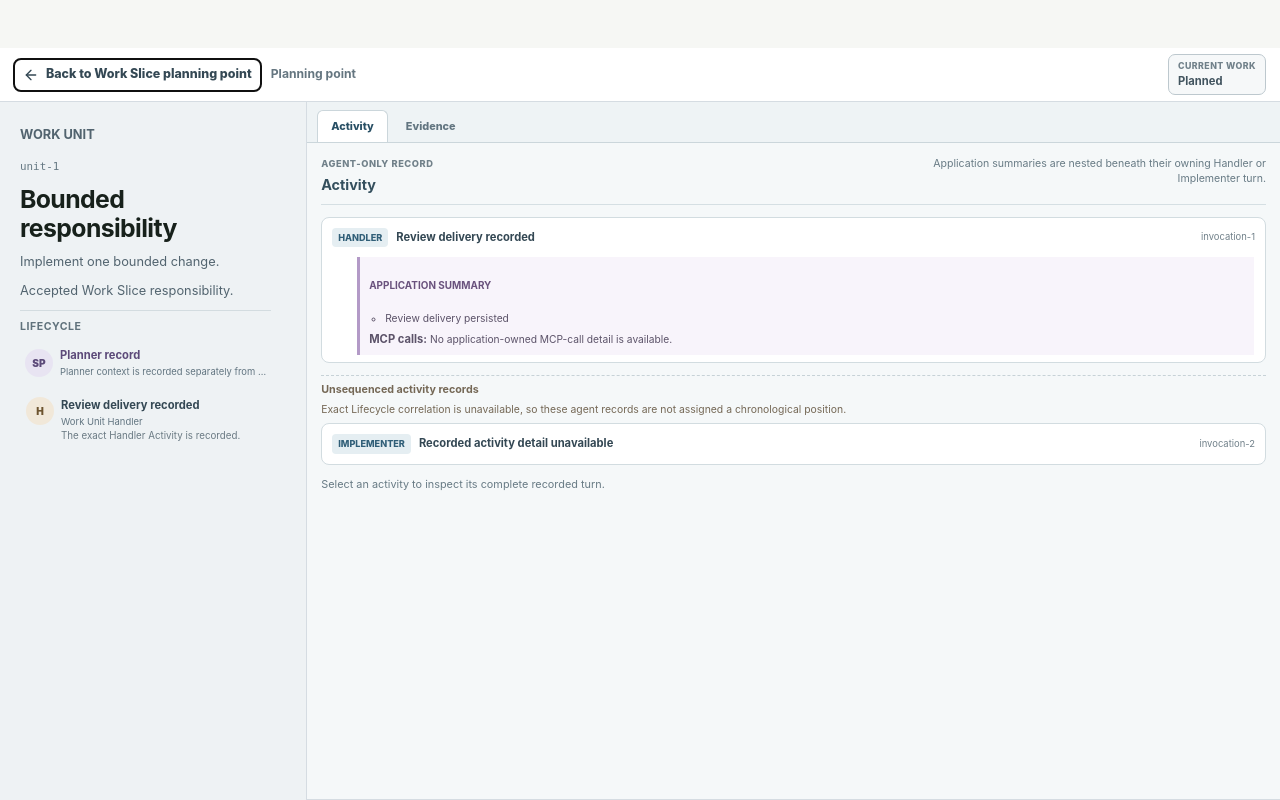
Test: WorkUnitDetailWorkspace Activity and Evidence › fails closed when an activity points at a missing Session
Expected: the list named "Chronological activity records" does not show "invocation-2", top-left (321, 216), bottom-right (1266, 363)
Click the button "Recorded activity detail unavailable invocation-2" at (372, 444), box top-left (329, 431), bottom-right (1258, 456)
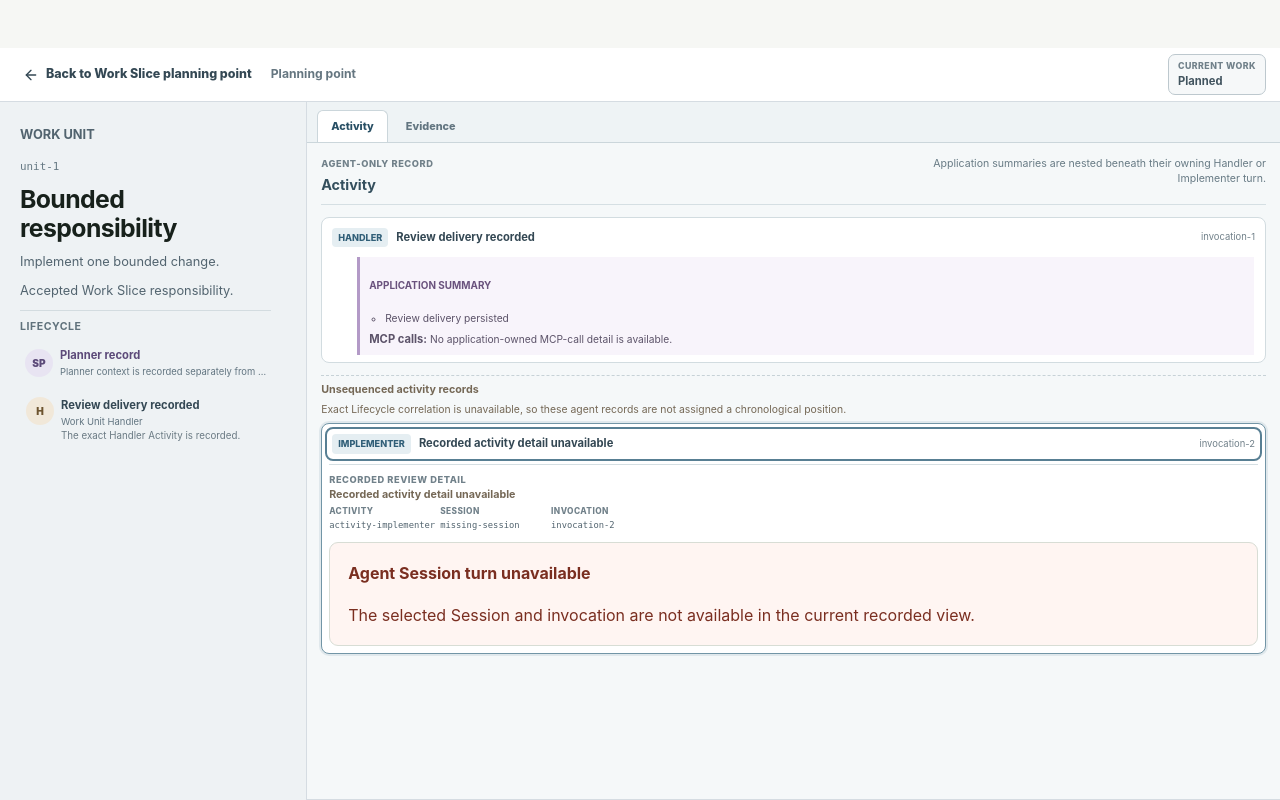
Now the message named "Agent Session turn: invocation-2" shows "Agent Session turn unavailable", box top-left (348, 563), bottom-right (591, 583)
